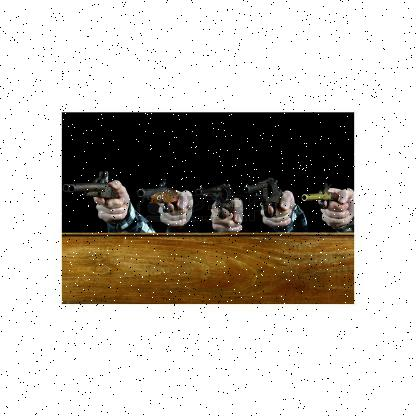gun: (61, 170, 123, 226), (136, 179, 188, 225), (194, 182, 238, 228), (247, 176, 289, 219), (306, 186, 348, 218)
